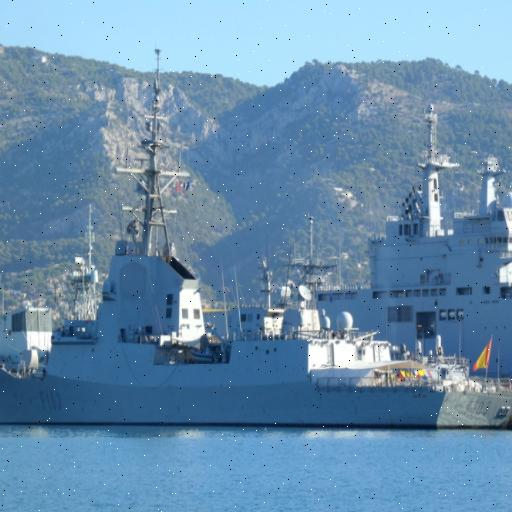Fragata: (1, 43, 512, 434)
